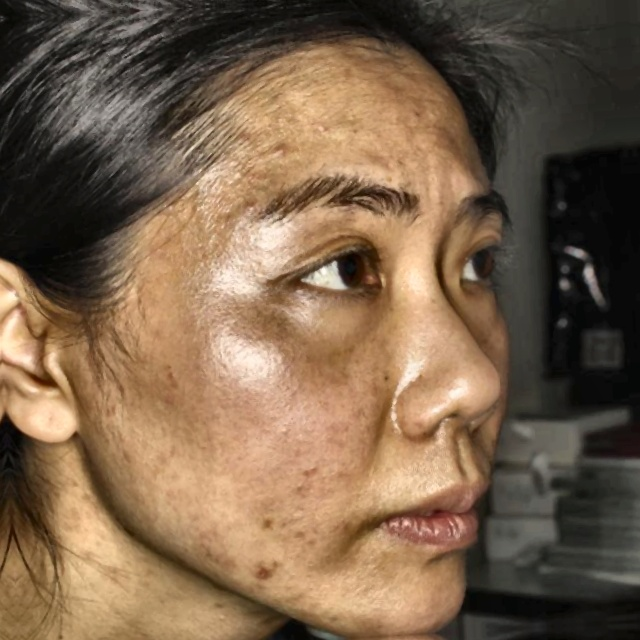comedone: (252, 551, 288, 603), (262, 132, 299, 180)
